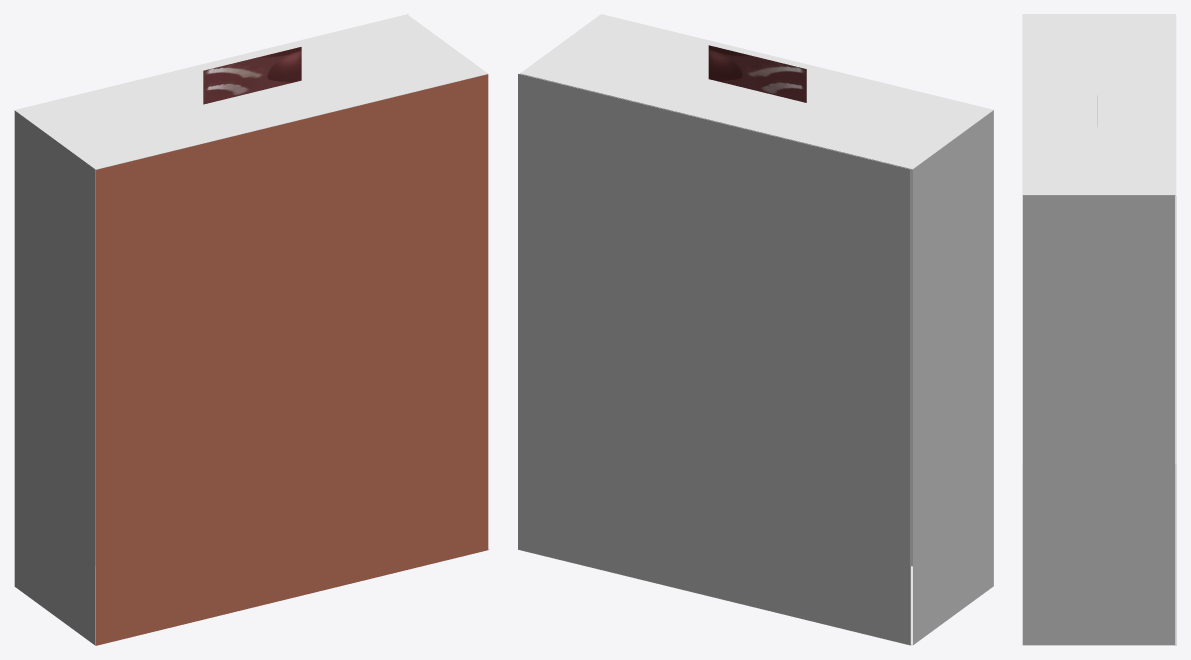
The model's file is western_digital_hdd_1tb.fbx.
3 renders of one model, left to right at view 1: azimuth 30°, elevation 25°; view 2: azimuth 150°, elevation 25°; view 3: azimuth 270°, elevation 25°, orthographic. The views are drawn at different scales.
Visible parts, largest first — view 1: Object_18, Object_3, Object_35, Object_14; view 2: Object_16, Object_3, Object_35, Object_2, Object_6; view 3: Object_15, Object_35, Object_33, Object_22, Object_29.
Boxes of the visible parts, bbox=[...] form: Object_18: bbox=[95, 74, 488, 645]; Object_3: bbox=[14, 111, 95, 645]; Object_35: bbox=[15, 14, 487, 169]; Object_14: bbox=[203, 47, 301, 104]; Object_16: bbox=[518, 74, 910, 644]; Object_3: bbox=[913, 110, 993, 644]; Object_35: bbox=[520, 14, 993, 169]; Object_2: bbox=[708, 45, 806, 102]; Object_6: bbox=[601, 93, 912, 566]; Object_15: bbox=[1023, 195, 1175, 644]; Object_35: bbox=[1022, 14, 1175, 194]; Object_33: bbox=[1023, 464, 1176, 645]; Object_22: bbox=[1176, 196, 1176, 645]; Object_29: bbox=[1022, 195, 1022, 644].
Size of the model in its own units: 0.1292 by 0.1598 by 0.0463.
